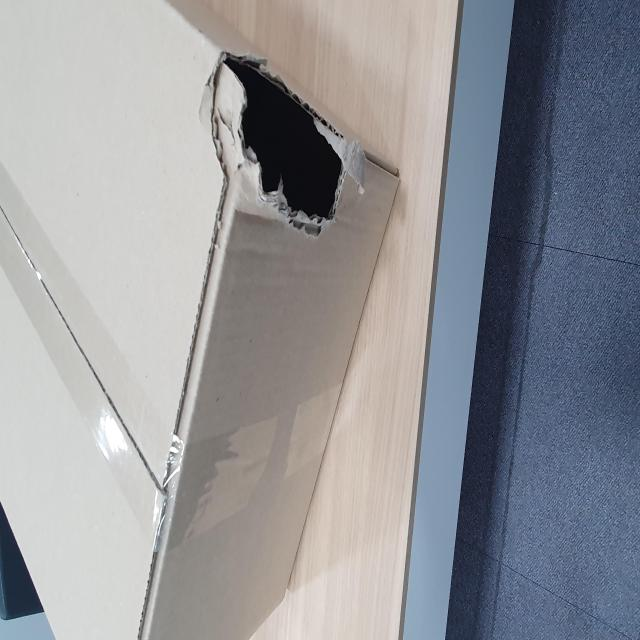damaged: (229, 386, 330, 637)
